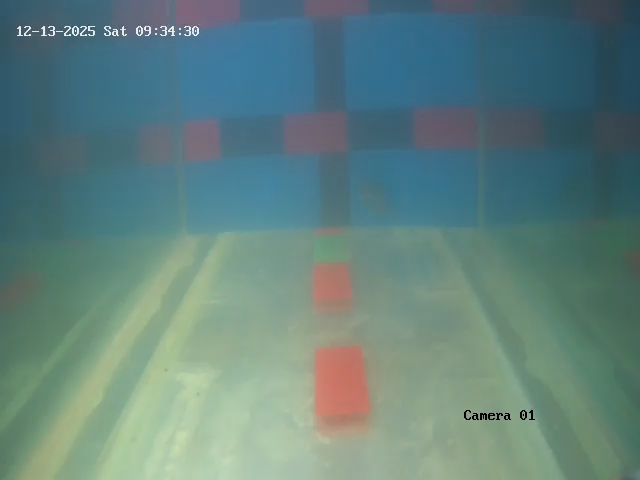fish: (362, 173, 392, 209)
